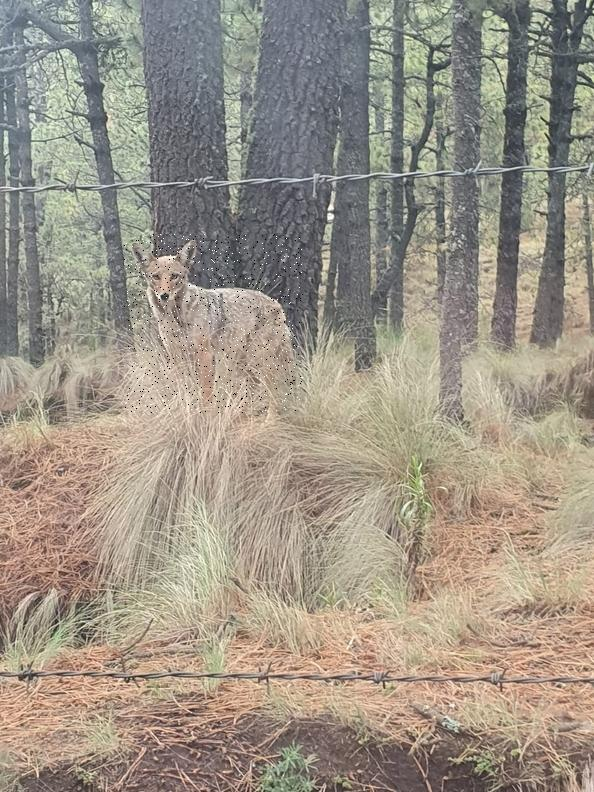Coyote: (125, 235, 304, 414)
